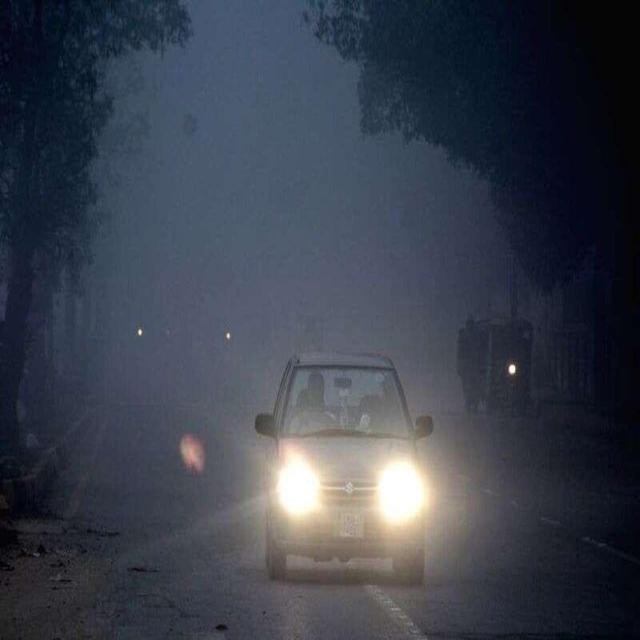Car: (252, 351, 441, 593)
